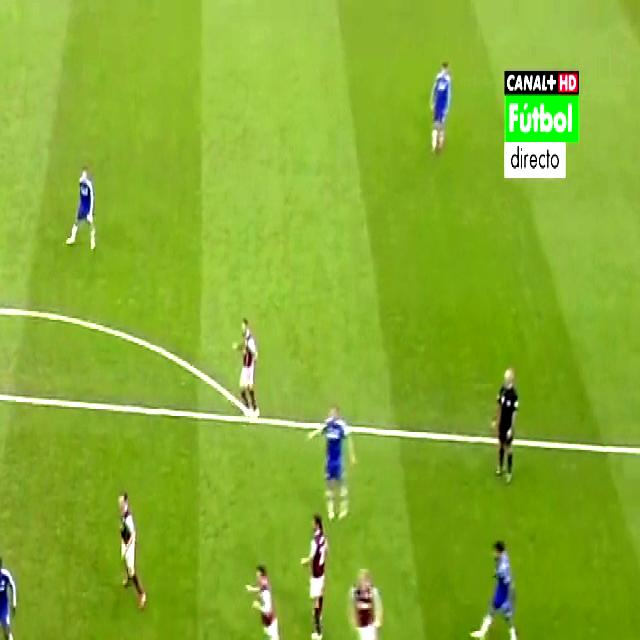referee: (489, 350, 528, 486)
soccer-player: (468, 526, 525, 640), (315, 385, 356, 528), (111, 480, 152, 617), (238, 553, 295, 640), (61, 151, 104, 260), (299, 514, 334, 640), (424, 52, 458, 166), (342, 558, 389, 640), (230, 312, 263, 426), (0, 540, 21, 640)
